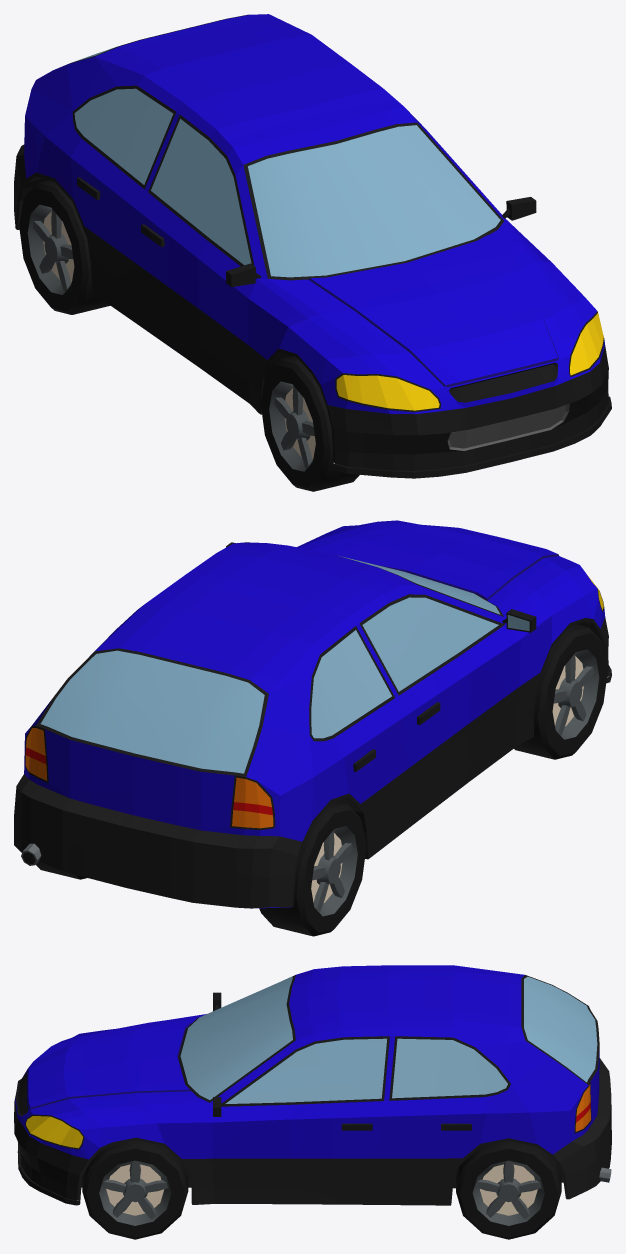
The model's file is mavi araba.fbx.
3 renders of one model, top to bottom at view 1: azimuth 30°, elevation 25°; view 2: azimuth 150°, elevation 25°; view 3: azimuth 270°, elevation 25°, orthographic. The views are drawn at different scales.
Parts seen in each view (by area): view 1: Hatchback Car_15; view 2: Hatchback Car_15; view 3: Hatchback Car_15.
Boxes of the visible parts, bbox=[...] form: Hatchback Car_15: bbox=[14, 14, 611, 491]; Hatchback Car_15: bbox=[14, 520, 611, 936]; Hatchback Car_15: bbox=[14, 965, 611, 1239].
Bounding box in the file's own units: 202 × 159 × 443.
Materials: 1 (1 with a texture image).
